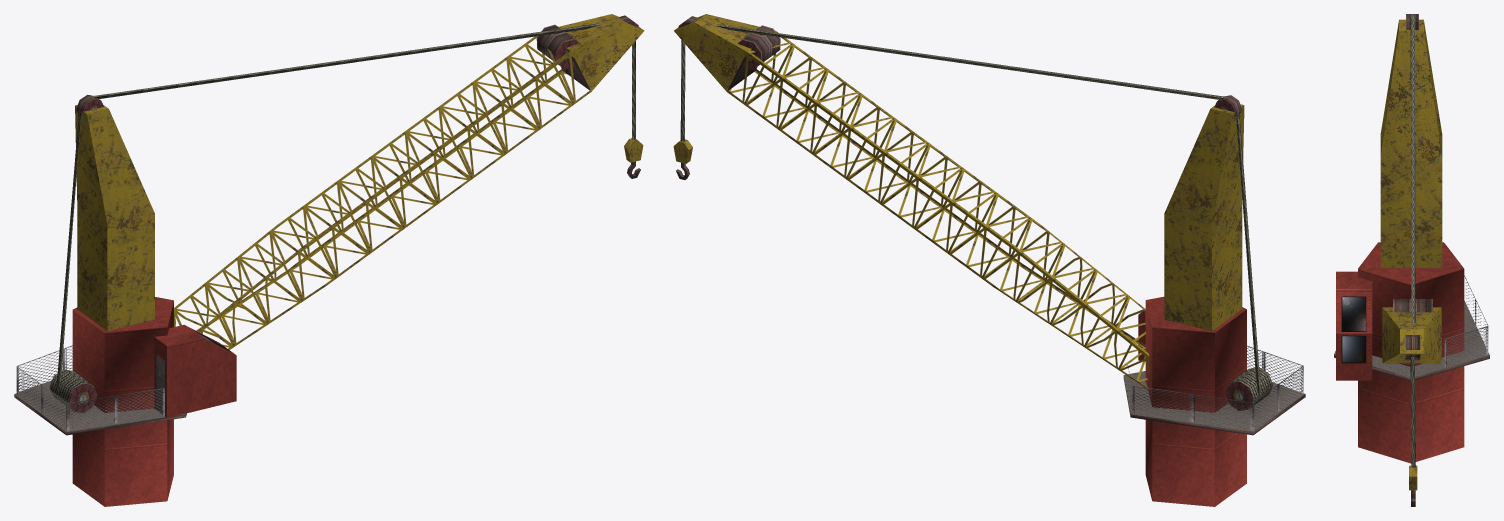
Rendered from OPCRN01.glb.
3 renders of one model, left to right at view 1: azimuth 30°, elevation 25°; view 2: azimuth 150°, elevation 25°; view 3: azimuth 270°, elevation 25°, orthographic. The views are drawn at different scales.
Parts seen in each view (by area): view 1: _OPCRN01; view 2: _OPCRN01; view 3: _OPCRN01.
Part boxes in pixels (<box>): _OPCRN01: <box>14,14,644,506</box>; _OPCRN01: <box>673,14,1305,506</box>; _OPCRN01: <box>1334,14,1489,506</box>.
Bounding box in the file's own units: 26.7 × 16.83 × 5.83.
10 materials, 9 textured.
